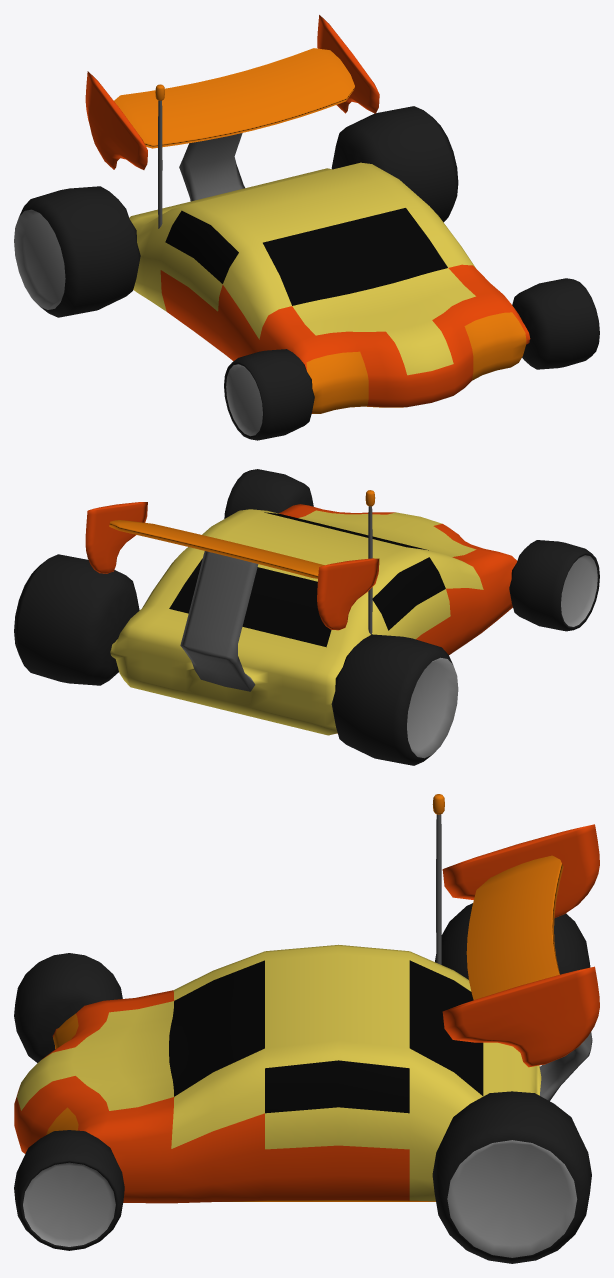
Rendered from toyCar.fbx.
3 renders of one model, top to bottom at view 1: azimuth 30°, elevation 25°; view 2: azimuth 150°, elevation 25°; view 3: azimuth 270°, elevation 25°, orthographic. The views are drawn at different scales.
Visible parts, largest first — view 1: toyCar; view 2: toyCar; view 3: toyCar.
Part boxes in pixels (x1,y1,x2,y2): toyCar: [14, 15, 599, 440]; toyCar: [14, 469, 599, 765]; toyCar: [14, 794, 599, 1263].
Bounding box in the file's own units: 11.33 × 6.39 × 11.62.
